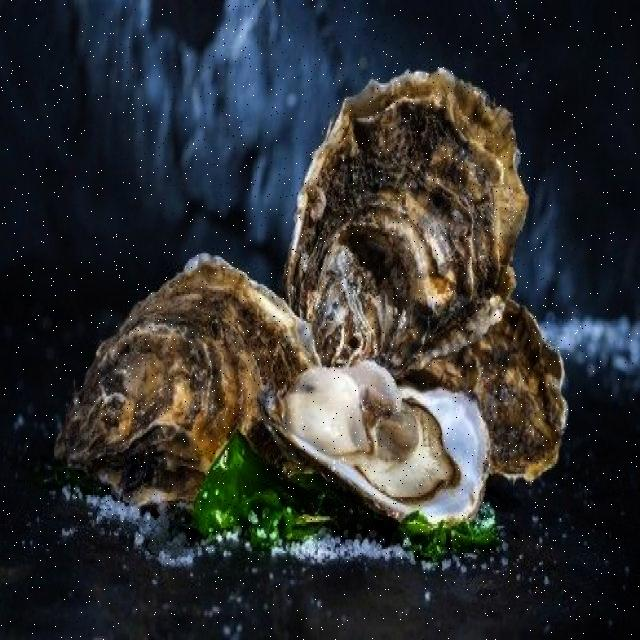Oyster-Closed: (283, 67, 532, 376), (50, 249, 320, 503), (392, 294, 568, 490)
Oyster-Open: (262, 359, 492, 529)
